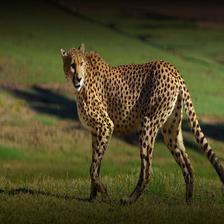Cheetah: (60, 43, 224, 207)
